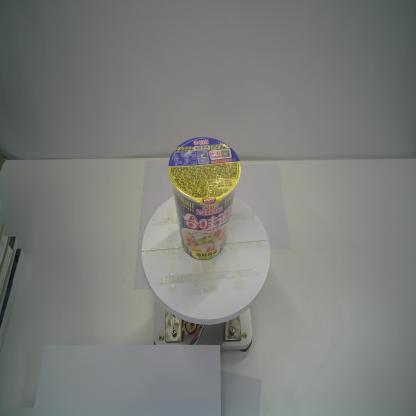Instant Noodles: (167, 134, 243, 264)
